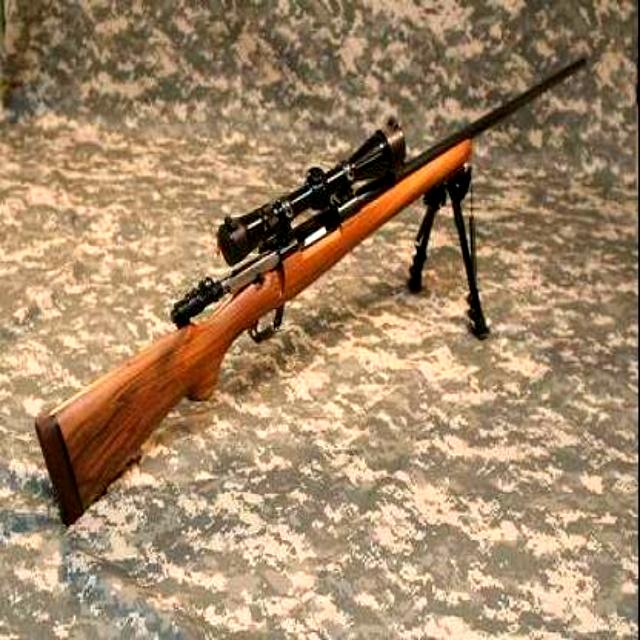rifle: (37, 55, 593, 527)
